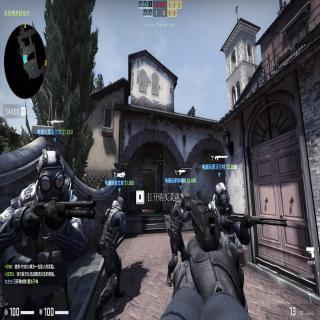CT-Body: (95, 196, 127, 320), (166, 194, 187, 286)
CT-Head: (36, 150, 65, 202), (214, 182, 232, 215), (116, 196, 124, 209), (179, 192, 185, 208)
